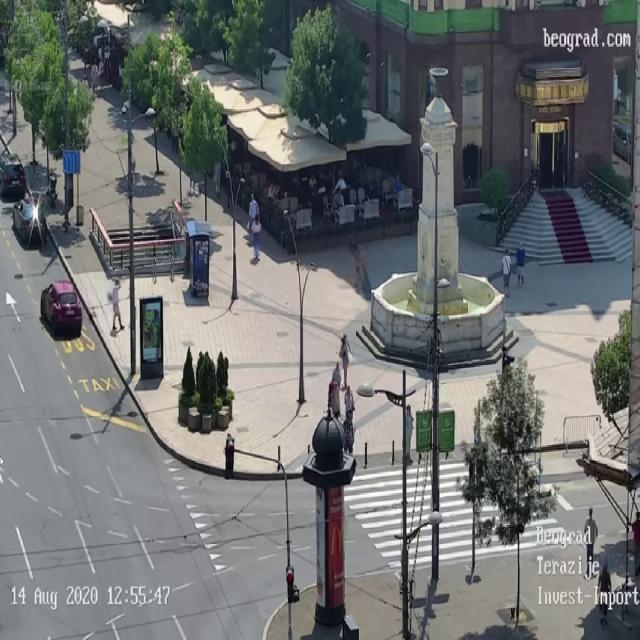car: (40, 280, 82, 338), (12, 191, 47, 246), (1, 151, 23, 197)
